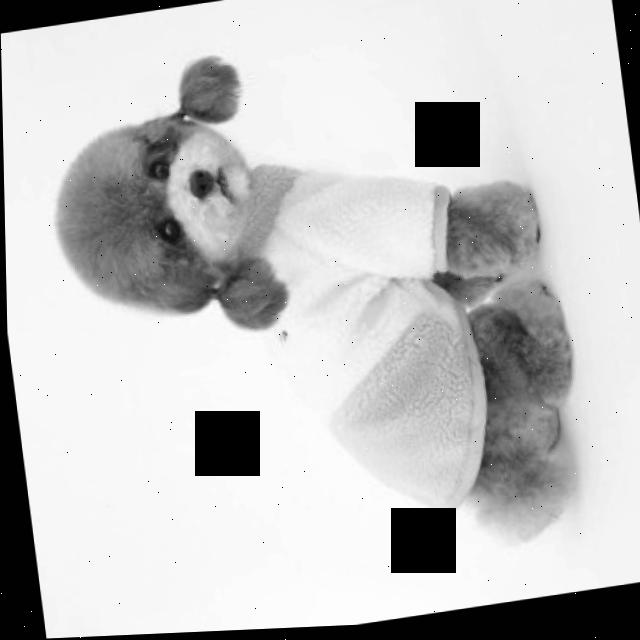cloth: (234, 168, 480, 510)
